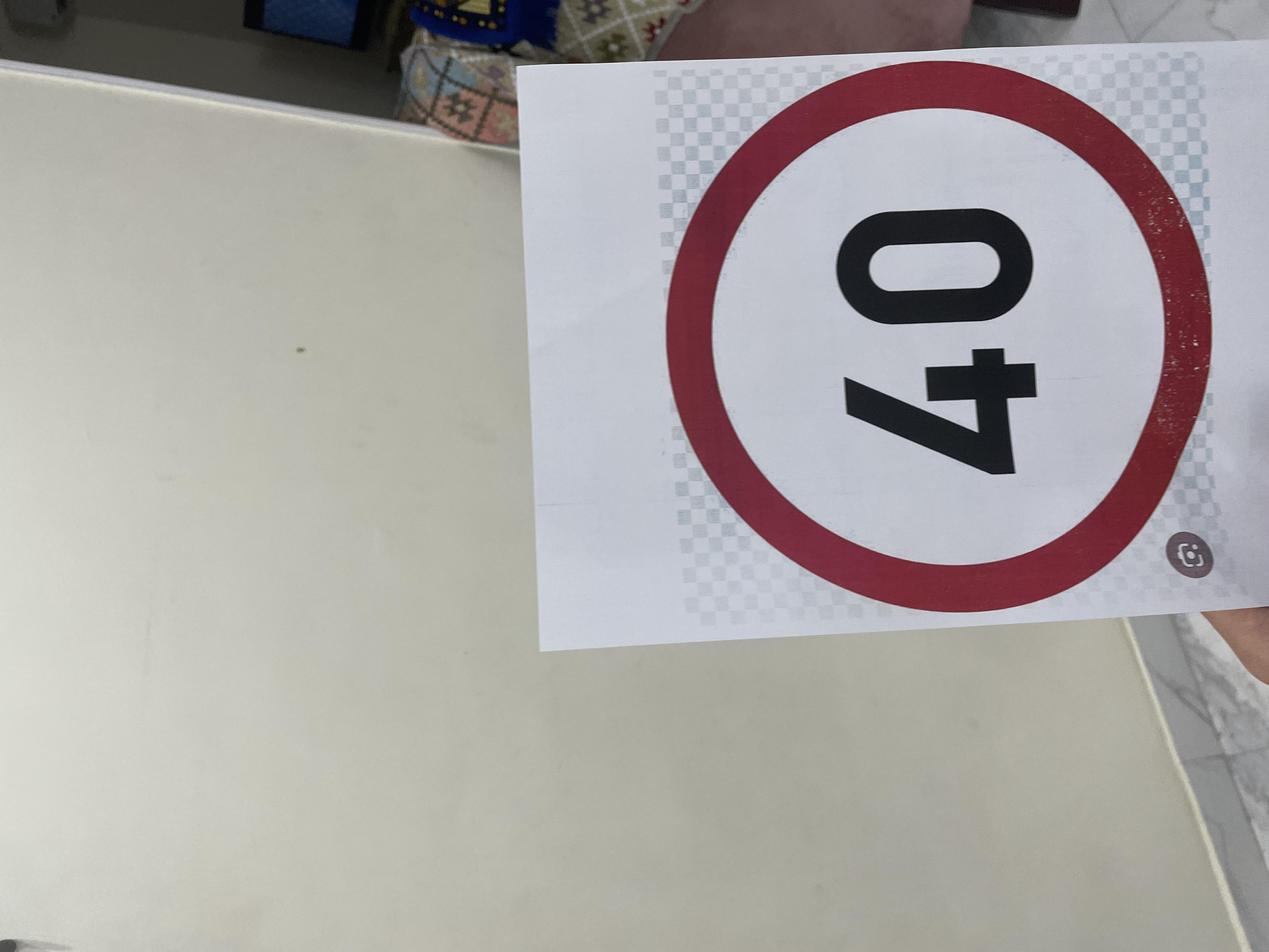40-Speed: (441, 487, 1207, 906)
